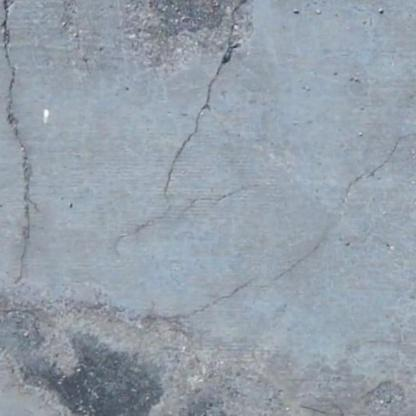Cracks: (124, 124, 416, 333), (116, 0, 269, 253), (0, 0, 45, 293)
